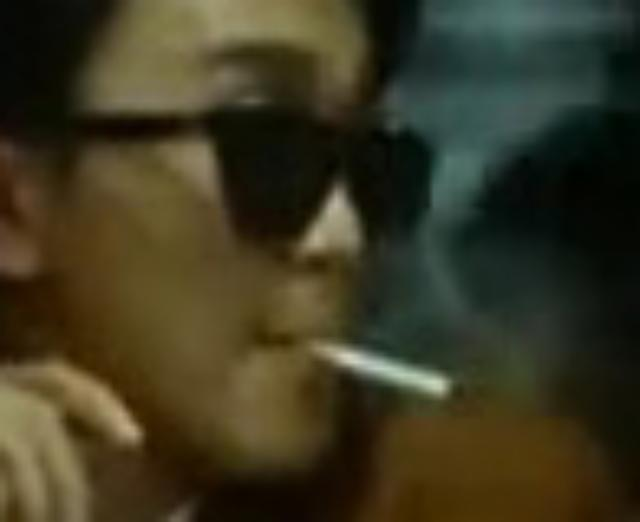Cigarette: (282, 334, 450, 398)
